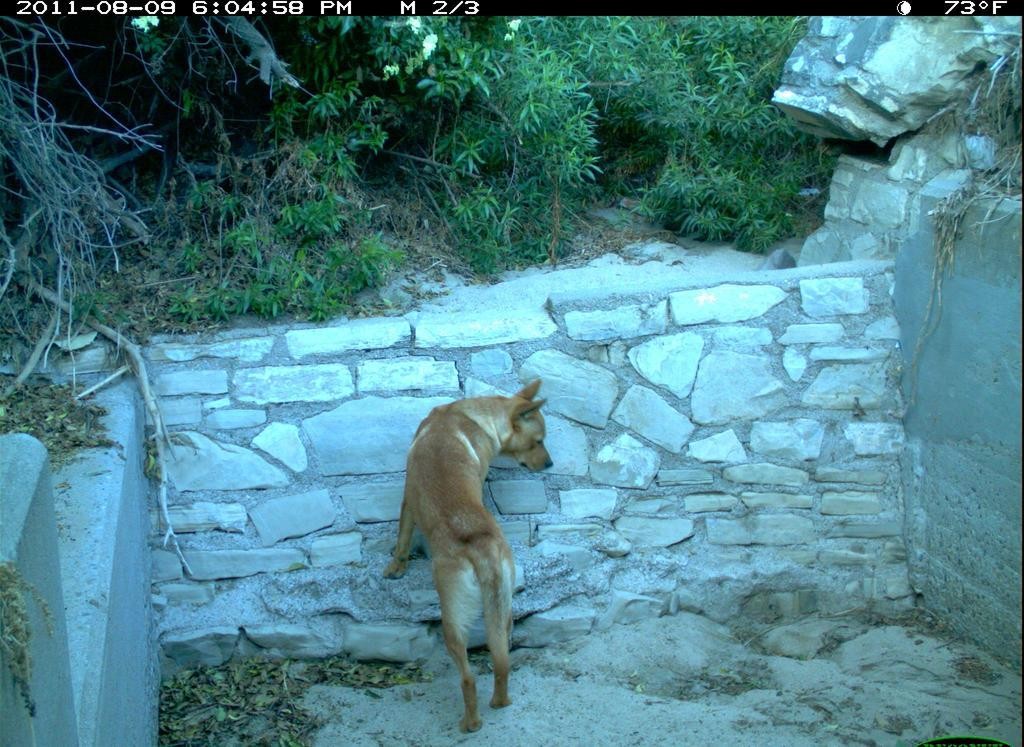dog: (368, 333, 598, 747)
